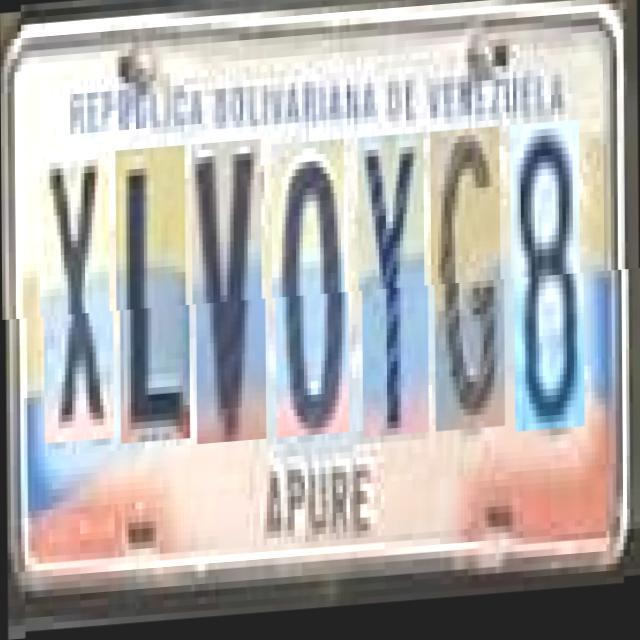8: (513, 130, 584, 440)
G: (434, 134, 504, 438)
L: (119, 148, 190, 446)
O: (274, 144, 348, 442)
V: (195, 144, 266, 448)
X: (42, 153, 114, 444)
Y: (361, 140, 428, 443)
